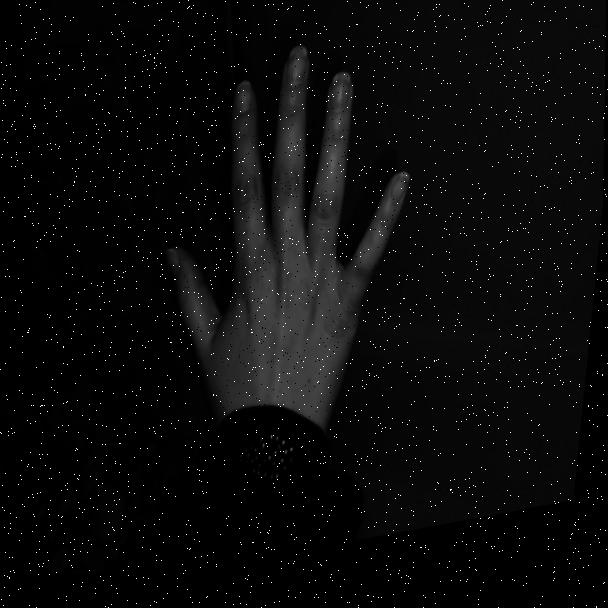five: (146, 10, 428, 505)
